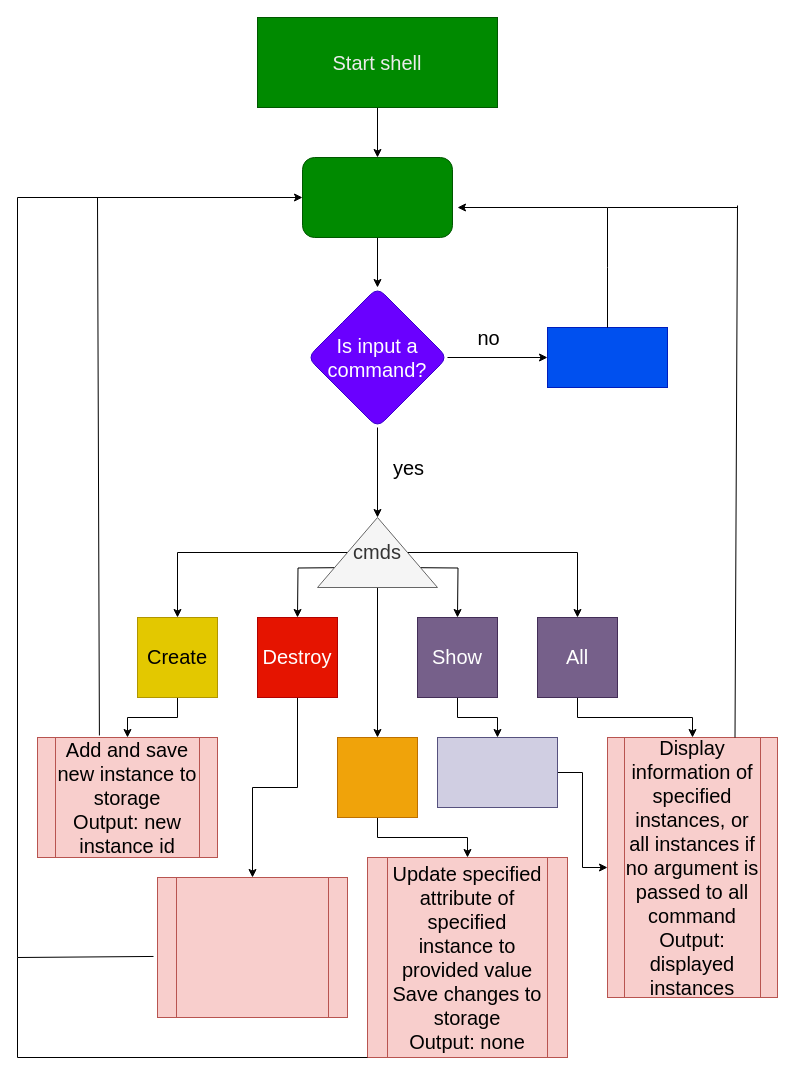
Image size: 795x1076. Some labels were removed from this diagram. Here are the shapes that lost their labels. From the top down, the centre of each, then its label:
the point at 377,197: Prompt input
the point at 607,357: Pass to next cycle
the point at 377,777: Update
the point at 497,772: Look up provided instance id
the point at 252,947: Delete instance from storage that matches provided id Output: none
